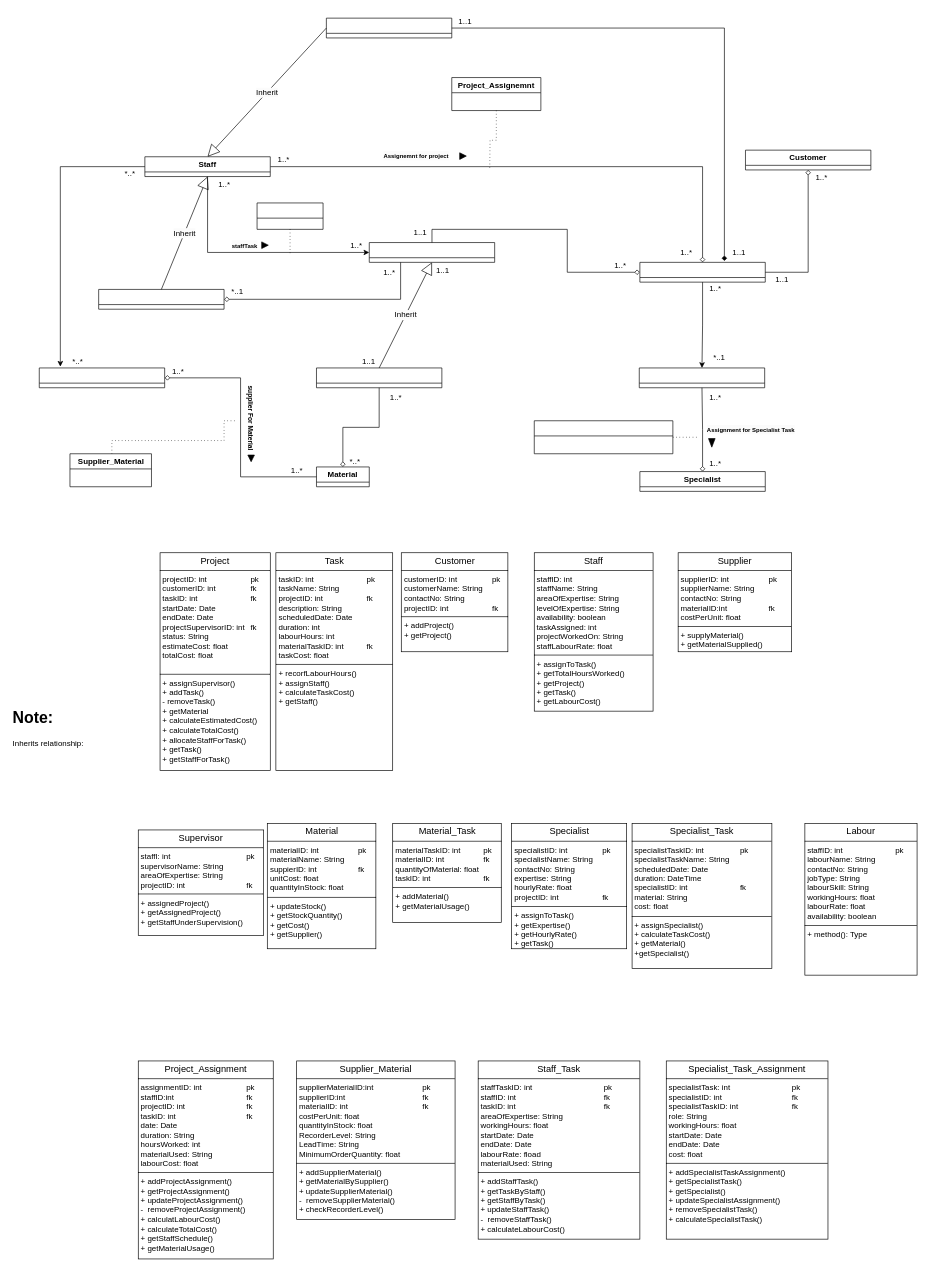
This 929x1271 diagram has some shape labels left out. The centre of each missing label's shape, as x and y in pixels:
"Labour" goes at pixel 161 299.
"Material_Task" goes at pixel 379 377.
"Project" goes at pixel 702 272.
"Specialist_Task" goes at pixel 702 377.
"Specialist_Task_Assignment" goes at pixel 603 437.
"Staff_Task" goes at pixel 289 215.
"Supervisor" goes at pixel 389 27.
"Supplier" goes at pixel 102 377.
"Task" goes at pixel 432 252.
